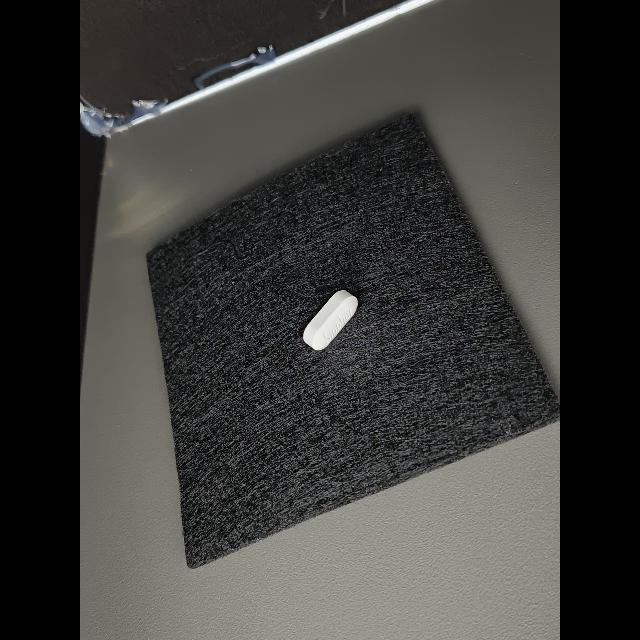Intact Pill: (303, 290, 358, 351)
